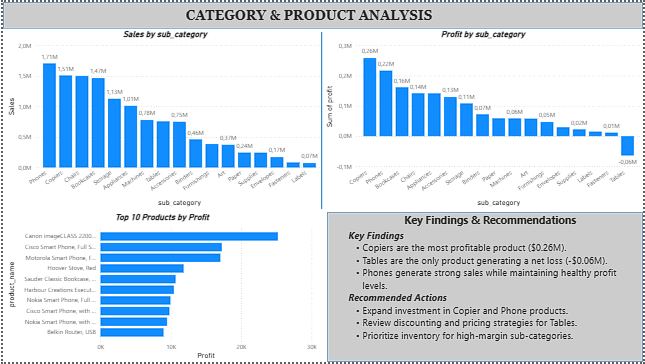

This screenshot's page, from the dashboard's own definition file:
{"tool":"powerbi","page":{"name":"Page 2 — Category & Product Analysis","canvas":[1280,720],"ordinal":2},"visuals":[{"type":"columnChart","fields":{"Category":["store.sub_category"],"Y":["Sum(store.sales)"]},"box":[3.1,53.8,640,360],"z":0},{"type":"columnChart","title":"Profit by sub_category","fields":{"Y":["Sum(store.profit)"],"Category":["store.sub_category"]},"box":[640,53.8,640,360],"z":1000},{"type":"barChart","title":"Top 10 Products by Profit","fields":{"Category":["store.product_name"],"Y":["Sum(store.profit)"]},"box":[3.3,420,628.3,300],"z":2000},{"type":"shape","box":[648.3,420,631.7,300],"z":3000},{"type":"textbox","title":"Key Findings & Recommendations","box":[686.7,420,576.7,300],"z":4000},{"type":"shape","box":[632.3,60,10.8,353.8],"z":5000},{"type":"shape","box":[0,0,1280,53.3],"z":6000},{"type":"textbox","title":"CATEGORY & PRODUCT ANALYSIS ","box":[263.3,11.7,696.7,30],"z":7000}]}

Visuals, with their boxes in screenshot pixels (x1, y1, x2, y2), scaled from the page's 1280x720 canvas onto the 645x364 screenshot:
columnChart - store.sub_category x Sum(store.sales): rect(2, 27, 324, 209)
"Profit by sub_category" columnChart: rect(322, 27, 644, 209)
"Top 10 Products by Profit" barChart: rect(2, 212, 318, 363)
shape: rect(327, 212, 644, 363)
"Key Findings & Recommendations" textbox: rect(346, 212, 637, 363)
shape: rect(319, 30, 324, 209)
shape: rect(0, 0, 644, 27)
"CATEGORY & PRODUCT ANALYSIS " textbox: rect(133, 6, 484, 21)
